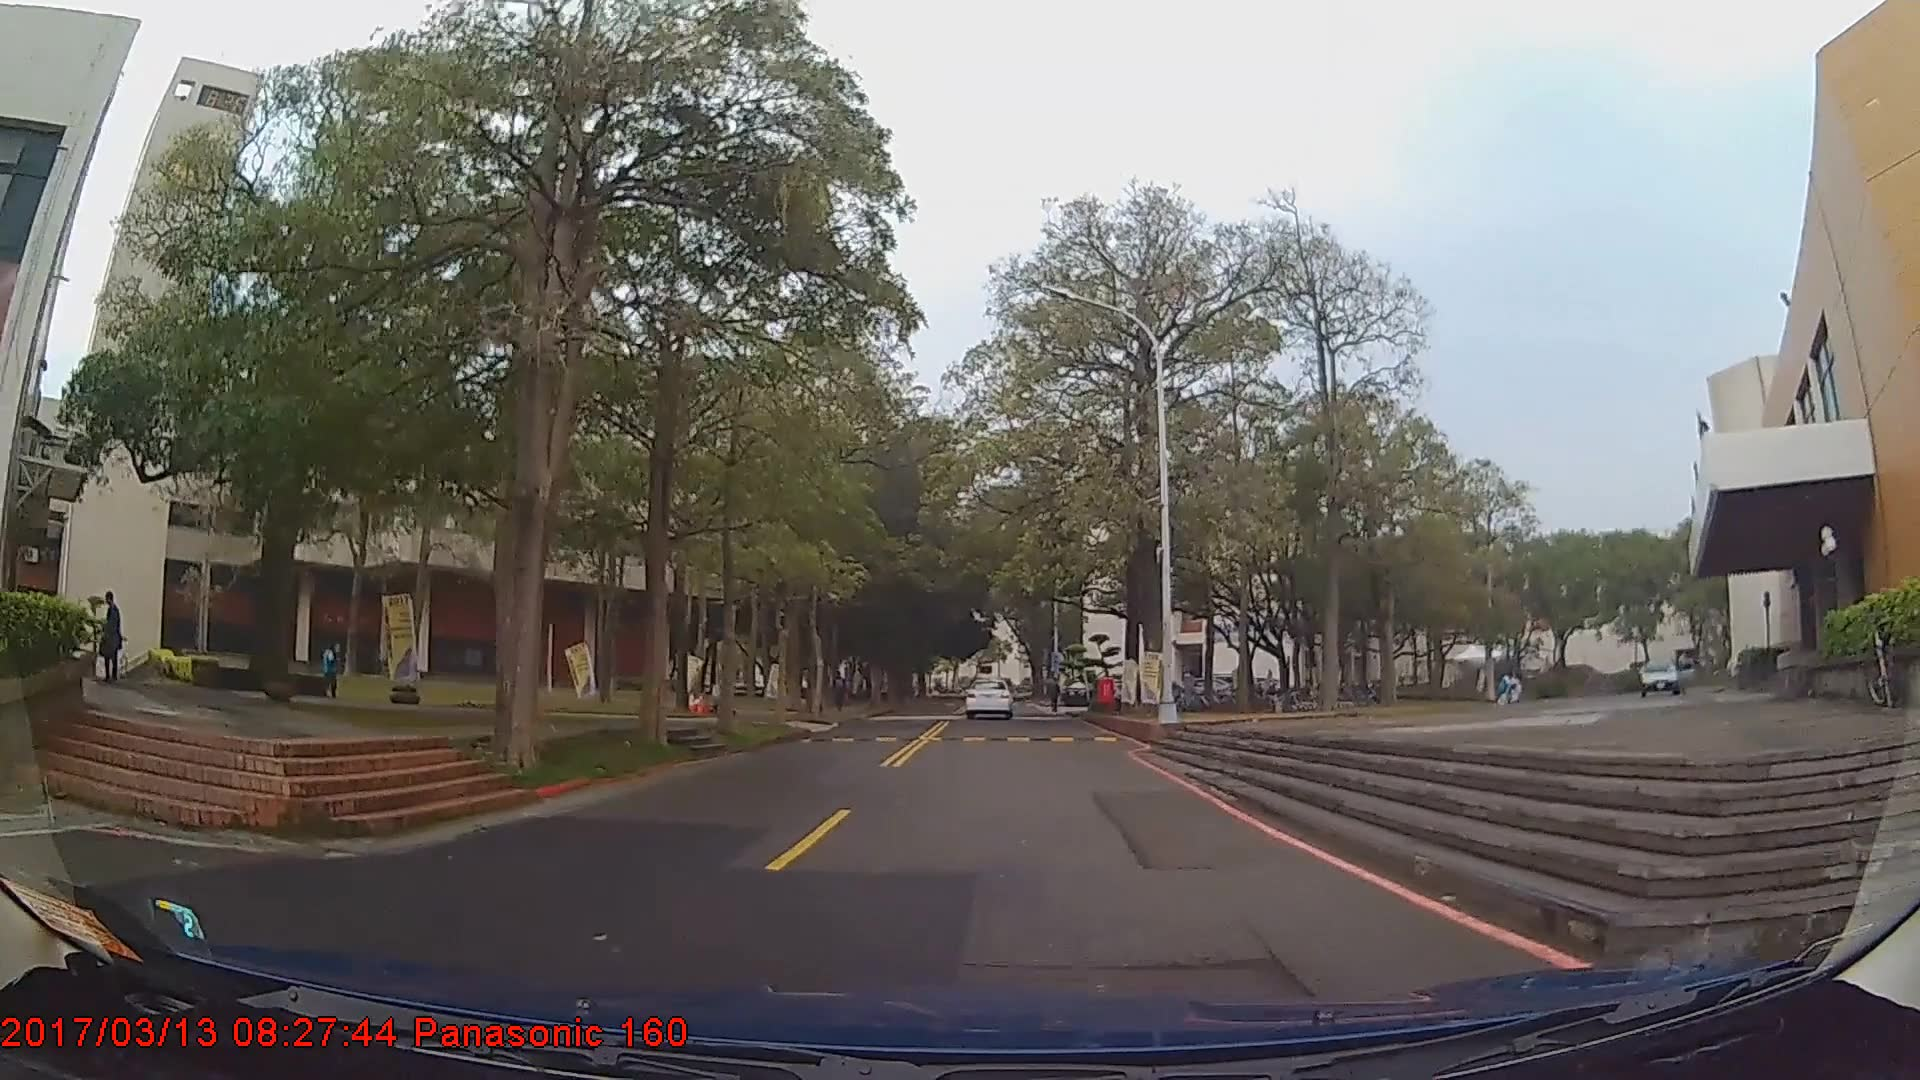pedestrian: (98, 593, 125, 683), (322, 638, 342, 701)
vehicle: (1635, 656, 1696, 699), (963, 675, 1013, 719)
